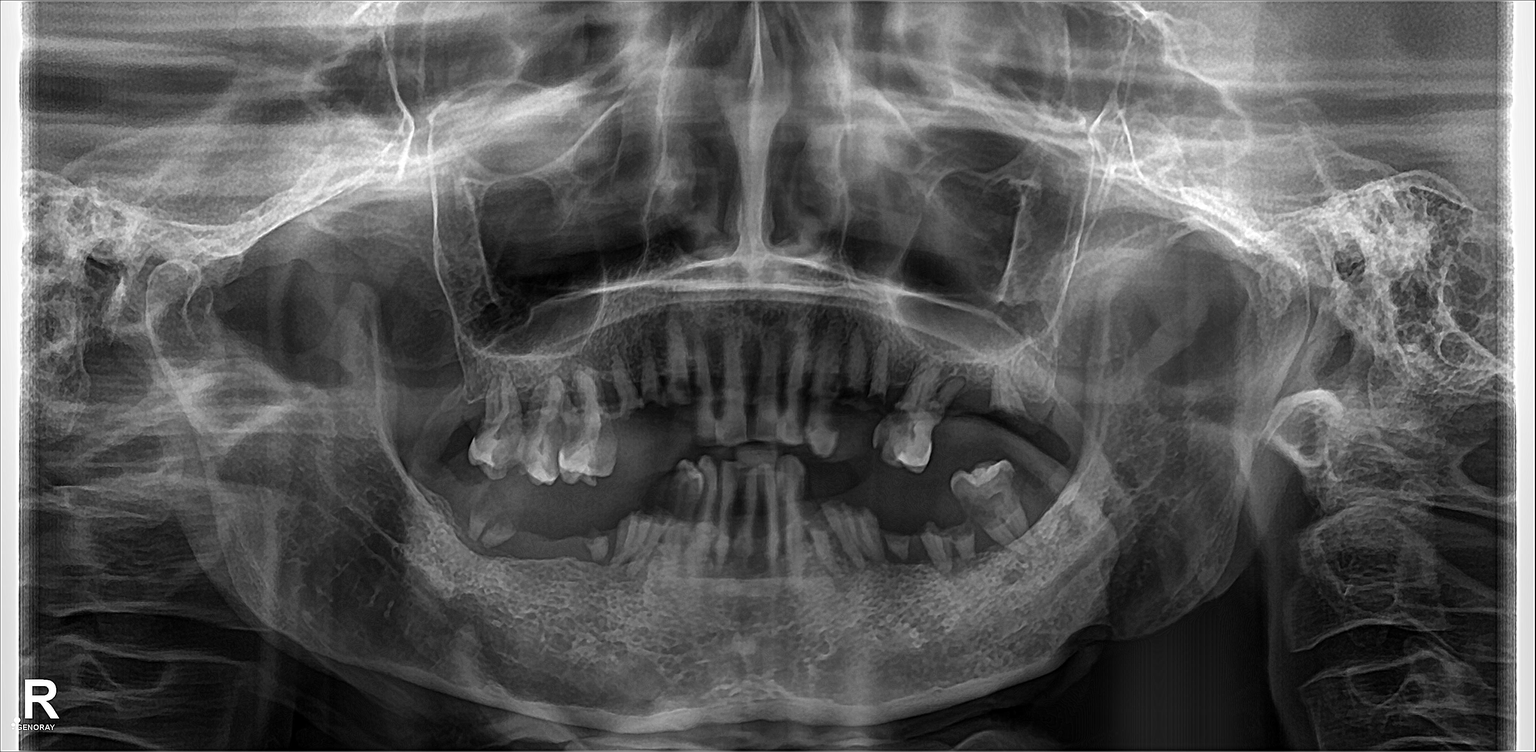Dental Caries: (544, 408, 588, 456), (657, 471, 699, 517)
Missing Tooth: (521, 484, 574, 585), (430, 372, 481, 468), (1028, 462, 1085, 544), (426, 478, 471, 576), (1034, 367, 1080, 448), (965, 369, 1003, 454)
Retained Root: (656, 315, 697, 432), (834, 486, 883, 576), (577, 501, 624, 594), (609, 350, 651, 450), (842, 335, 885, 431), (629, 490, 670, 579), (480, 480, 518, 575), (888, 482, 918, 594), (944, 495, 980, 581), (805, 482, 833, 587), (996, 365, 1025, 445), (926, 486, 946, 591)
